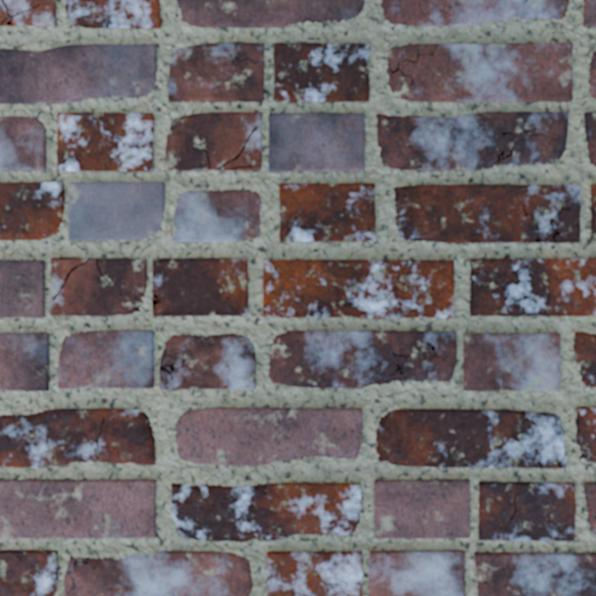brick: (377, 112, 567, 169), (387, 43, 571, 101), (172, 483, 359, 540), (263, 260, 453, 316), (395, 185, 579, 242), (376, 410, 563, 466), (269, 331, 455, 387), (176, 408, 361, 464), (0, 45, 155, 102), (0, 480, 154, 537), (0, 409, 154, 466), (64, 551, 252, 595), (470, 259, 595, 315), (479, 482, 574, 540), (169, 42, 262, 101), (57, 113, 153, 170), (464, 333, 559, 390), (279, 183, 374, 240), (269, 113, 363, 170), (274, 43, 368, 100), (375, 480, 469, 537), (69, 182, 163, 239), (153, 258, 247, 315), (58, 331, 152, 387), (167, 113, 260, 169), (51, 259, 145, 314), (160, 334, 254, 388), (475, 553, 595, 595), (177, 0, 363, 26), (382, 0, 567, 26), (173, 190, 261, 241), (369, 550, 464, 595), (267, 551, 361, 595), (0, 182, 63, 239), (0, 333, 48, 389), (66, 0, 160, 27), (0, 550, 56, 595), (0, 261, 44, 316), (0, 116, 45, 169), (51, 258, 85, 298), (5, 0, 55, 25), (574, 332, 595, 386), (577, 407, 595, 461), (584, 483, 595, 533), (585, 113, 595, 165), (584, 0, 595, 26), (589, 52, 595, 98), (591, 184, 595, 240), (0, 0, 5, 20), (561, 460, 566, 467)
crack: (51, 257, 112, 301), (389, 44, 438, 86), (216, 125, 258, 170), (520, 202, 546, 242), (0, 0, 41, 25), (513, 433, 542, 468), (159, 351, 192, 381), (549, 199, 571, 242), (64, 560, 89, 592), (198, 143, 211, 169), (231, 56, 263, 64), (557, 451, 566, 468), (152, 294, 161, 308), (153, 258, 171, 262), (58, 257, 73, 260)
